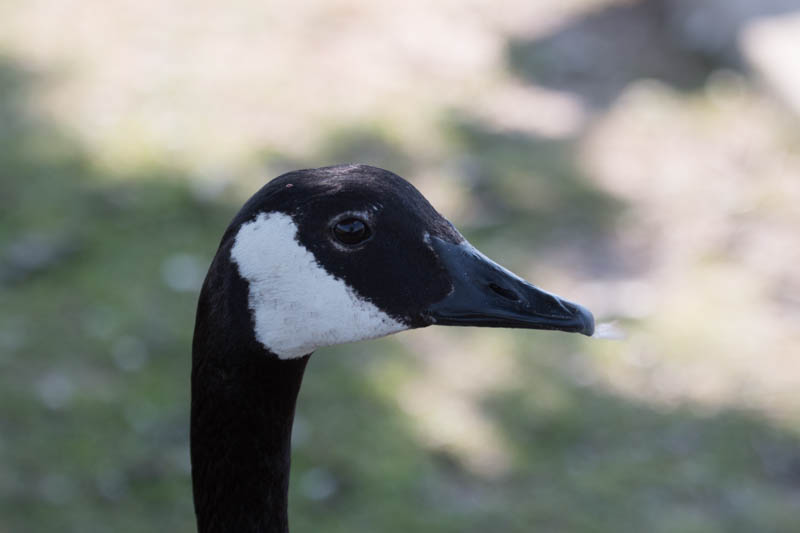goose-head: (193, 163, 596, 360)
